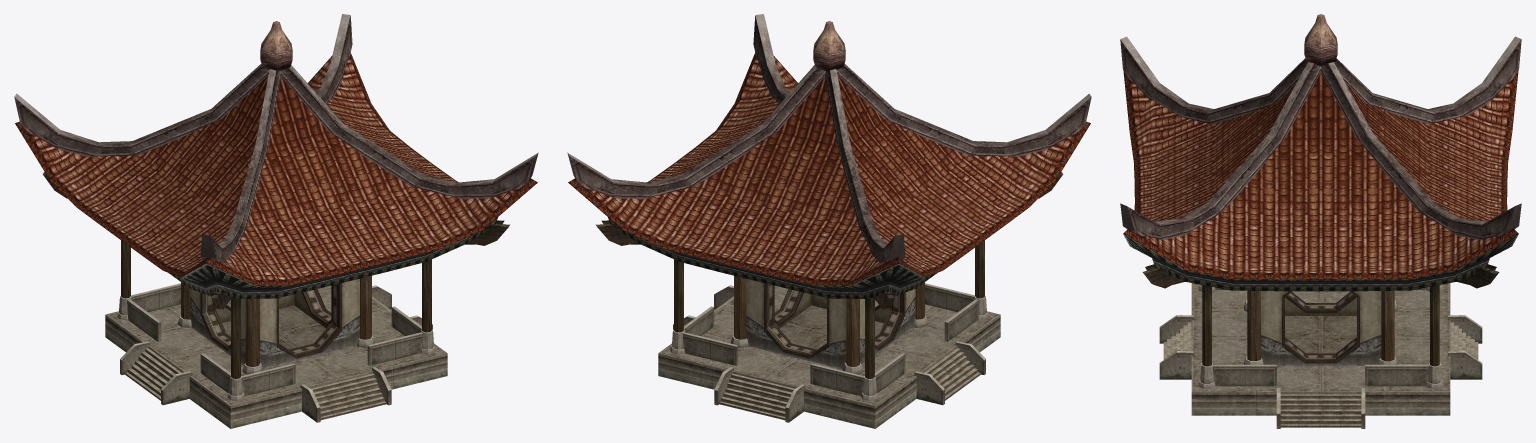
3 views of the same model, side by side, from view 1: azimuth 30°, elevation 25°; view 2: azimuth 150°, elevation 25°; view 3: azimuth 270°, elevation 25° (orthographic). The views are drawn at different scales.
Parts seen in each view (by area): view 1: 017; view 2: 017; view 3: 017.
Part boxes in pixels (box(x1,y1,x2,y2)): 017: box(14, 14, 538, 428); 017: box(567, 14, 1091, 428); 017: box(1120, 14, 1521, 428).
Size of the model in its own units: 15.62 by 14.9 by 15.62.
